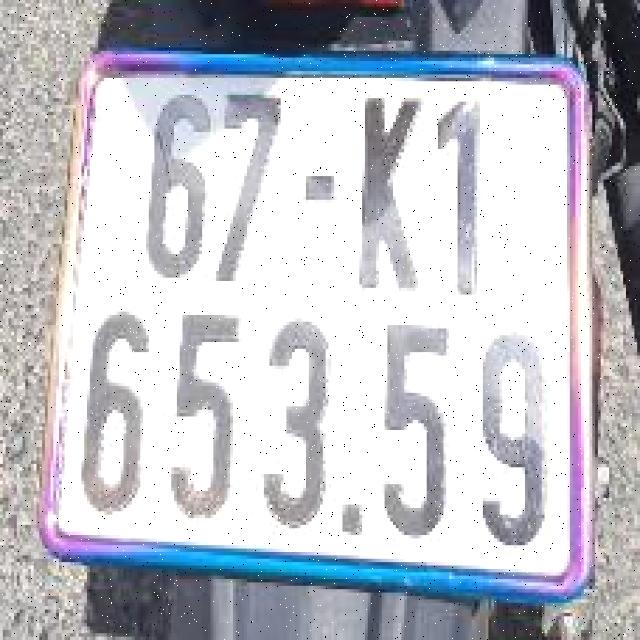1: (431, 81, 487, 308)
3: (257, 303, 327, 540)
5: (372, 307, 450, 540), (166, 295, 242, 528)
6: (72, 291, 148, 515), (138, 66, 208, 286)
7: (212, 78, 274, 284)
9: (469, 320, 561, 554)
K: (356, 73, 410, 296)
